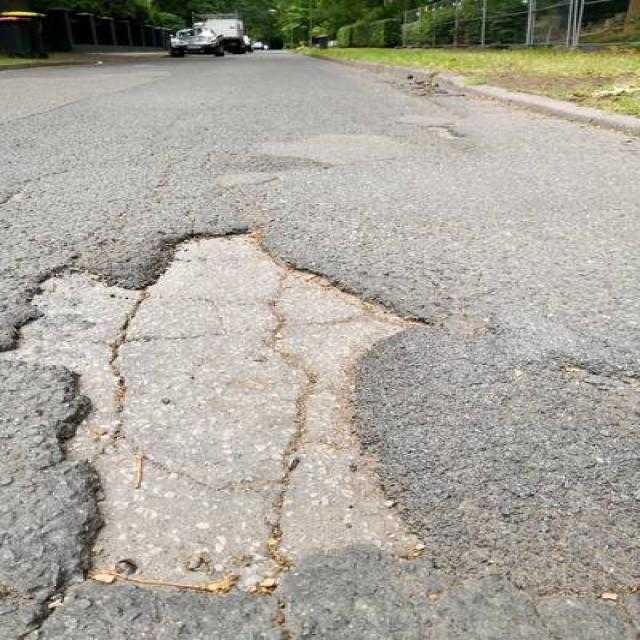Pothole: (61, 223, 442, 598)
